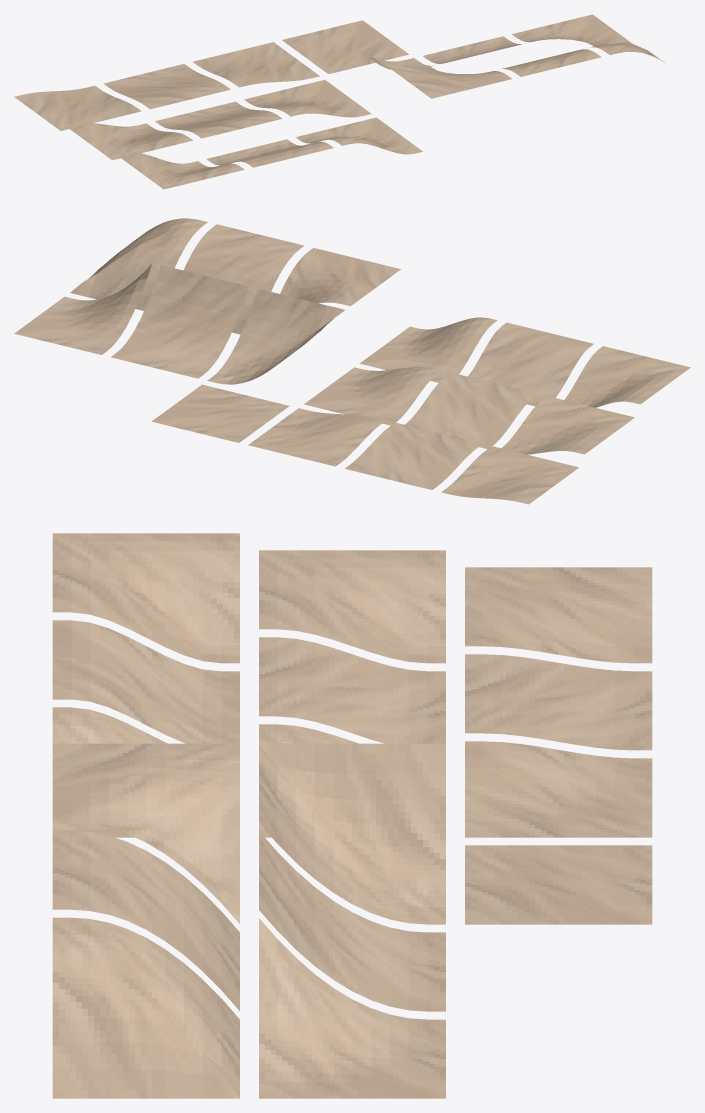
File: sand_tiles4.glb
3 renders of one model, top to bottom at view 1: azimuth 30°, elevation 25°; view 2: azimuth 150°, elevation 25°; view 3: azimuth 270°, elevation 25°, orthographic. The views are drawn at different scales.
Visible parts, largest first — view 1: normal-col, hill1-outer-col, hill1-inner-col, hill1-col, hill2-outer-col, hill2-inner-col, hill2-col, steep6.2-inner-col, hill3-inner-col, hill3-outer-col, steep6.1-outer-col, hill3-col (+3 smaller); view 2: steep6.1-col, steep6.1-inner-col, hill3-col, hill2-col, steep6.2-col, hill1-col, steep6.1-outer-col, hill2-inner-col, steep6.2-outer-col, hill2-outer-col, hill3-inner-col, hill1-outer-col (+4 smaller); view 3: steep6.2-outer-col, steep6.1-inner-col, steep6.2-inner-col, steep6.1-outer-col, hill3-inner-col, hill2-inner-col, hill1-outer-col, hill1-inner-col, normal-col, hill1-col, steep6.2-col, steep6.1-col (+4 smaller).
Part boxes in pixels (x1,y1,x2,y2): normal-col: (282,20,409,74); hill1-outer-col: (192,42,319,87); hill1-inner-col: (14,85,141,130); hill1-col: (103,64,230,109); hill2-outer-col: (244,80,371,117); hill2-inner-col: (66,122,192,160); hill2-col: (155,101,282,138); steep6.2-inner-col: (385,61,511,98); hill3-inner-col: (117,152,244,189); hill3-outer-col: (295,117,422,154); steep6.1-outer-col: (512,14,632,46); hill3-col: (206,139,333,167); steep6.1-col: (111,265,248,378); steep6.1-inner-col: (207,288,344,384); hill3-col: (468,322,593,406); hill2-col: (405,372,537,448); steep6.2-col: (183,224,304,334); hill1-col: (345,422,482,489); steep6.1-outer-col: (14,264,151,354); hill2-inner-col: (501,396,634,454); steep6.2-outer-col: (70,218,207,310); hill2-outer-col: (304,366,441,425); hill3-inner-col: (564,346,690,407); hill1-outer-col: (248,408,385,466); steep6.2-outer-col: (52,917,239,1098); steep6.1-inner-col: (259,743,445,924); steep6.2-inner-col: (52,743,239,923); steep6.1-outer-col: (259,918,445,1098); hill3-inner-col: (52,533,239,663); hill2-inner-col: (259,550,445,663); hill1-outer-col: (465,741,652,837); hill1-inner-col: (465,567,652,663); normal-col: (465,845,652,924); hill1-col: (465,654,652,750); steep6.2-col: (52,830,239,1010); steep6.1-col: (259,831,445,1011).
Bounding box in the file's own units: 65 × 6.03 × 32.
1 material, 1 textured.
